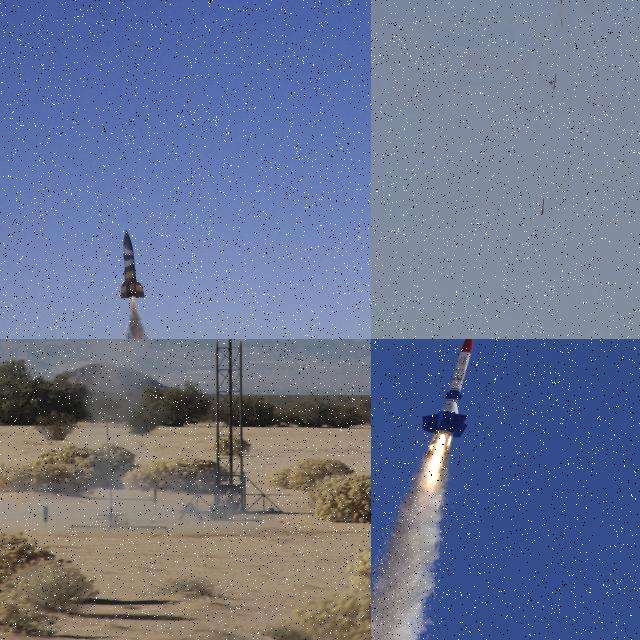Rocket: (421, 339, 474, 437), (119, 229, 146, 299), (542, 198, 544, 215)
